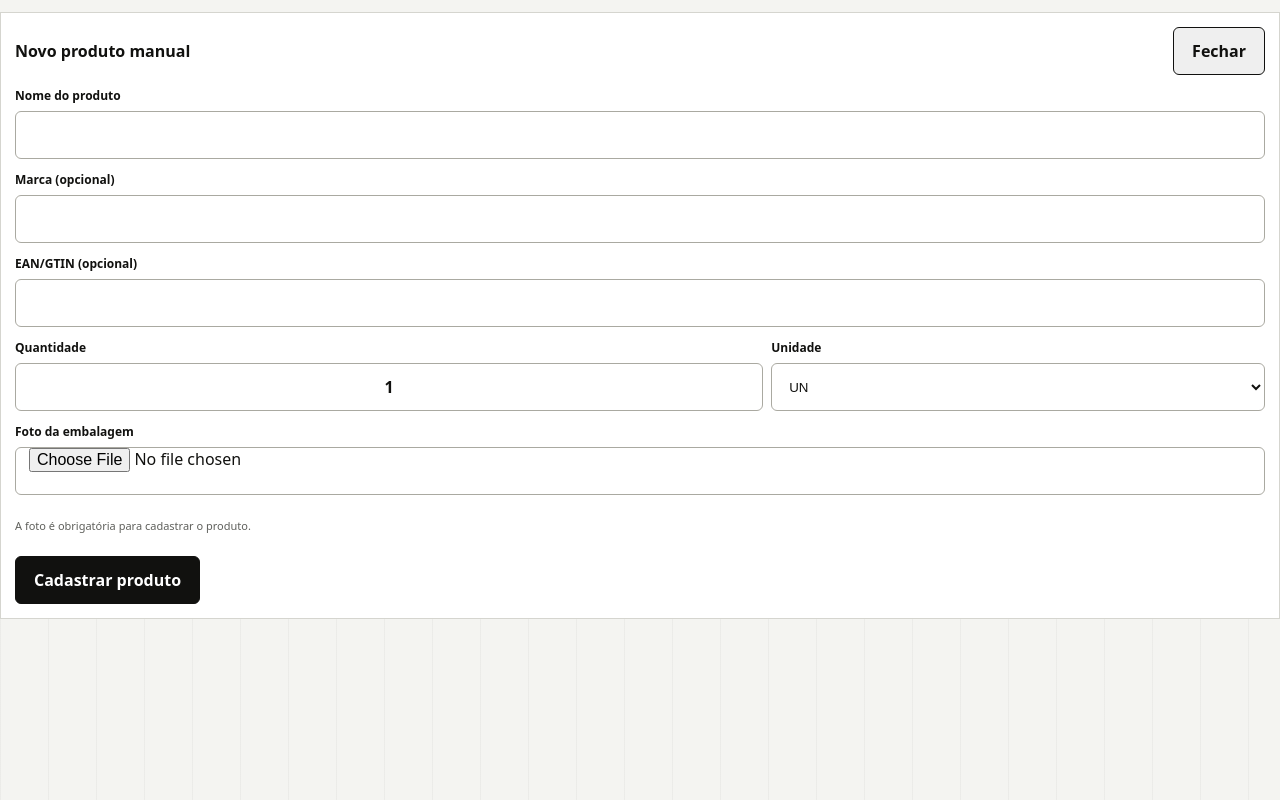
Test case: cadastro manual de produto › exige foto antes de cadastrar
Type "Café" into the field named "Nome do produto manual" at (640, 135), box [15,111,1265,159]
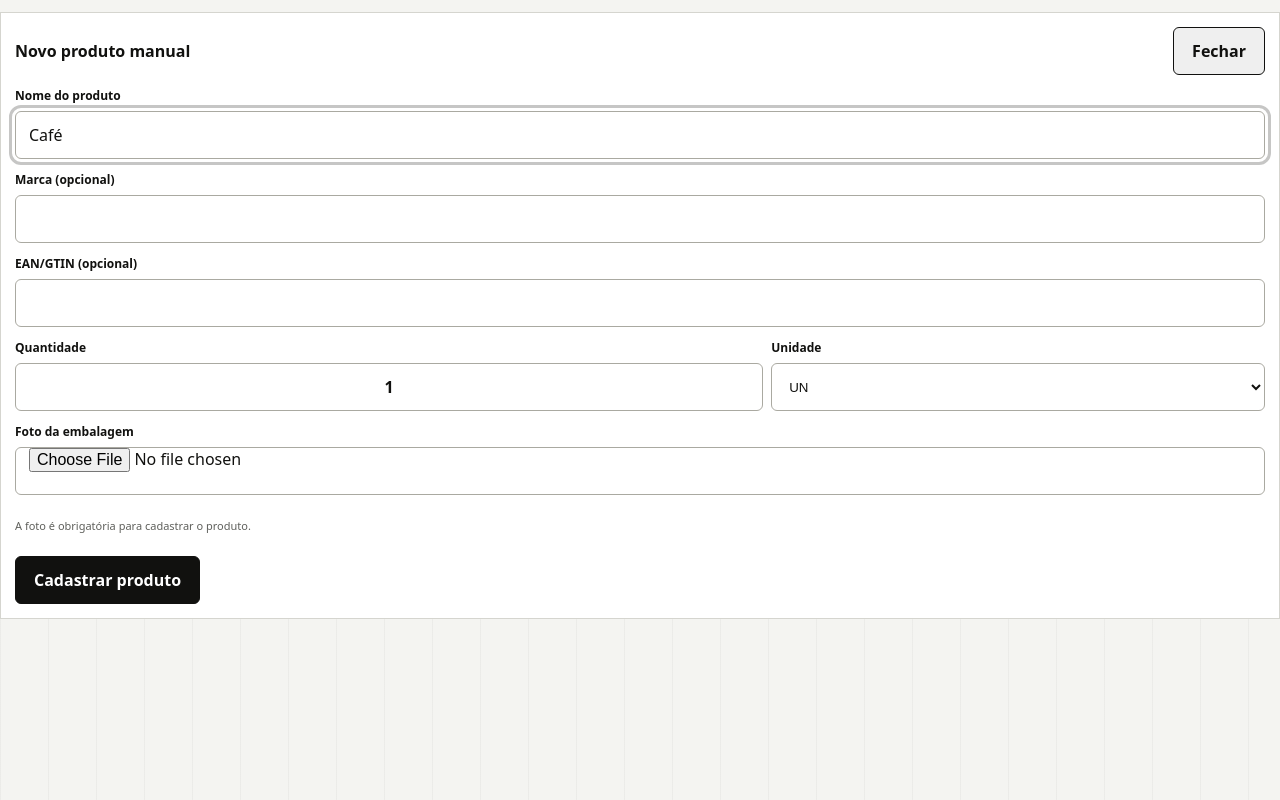
Click the button "Cadastrar produto" at (108, 580), box [15,556,200,604]
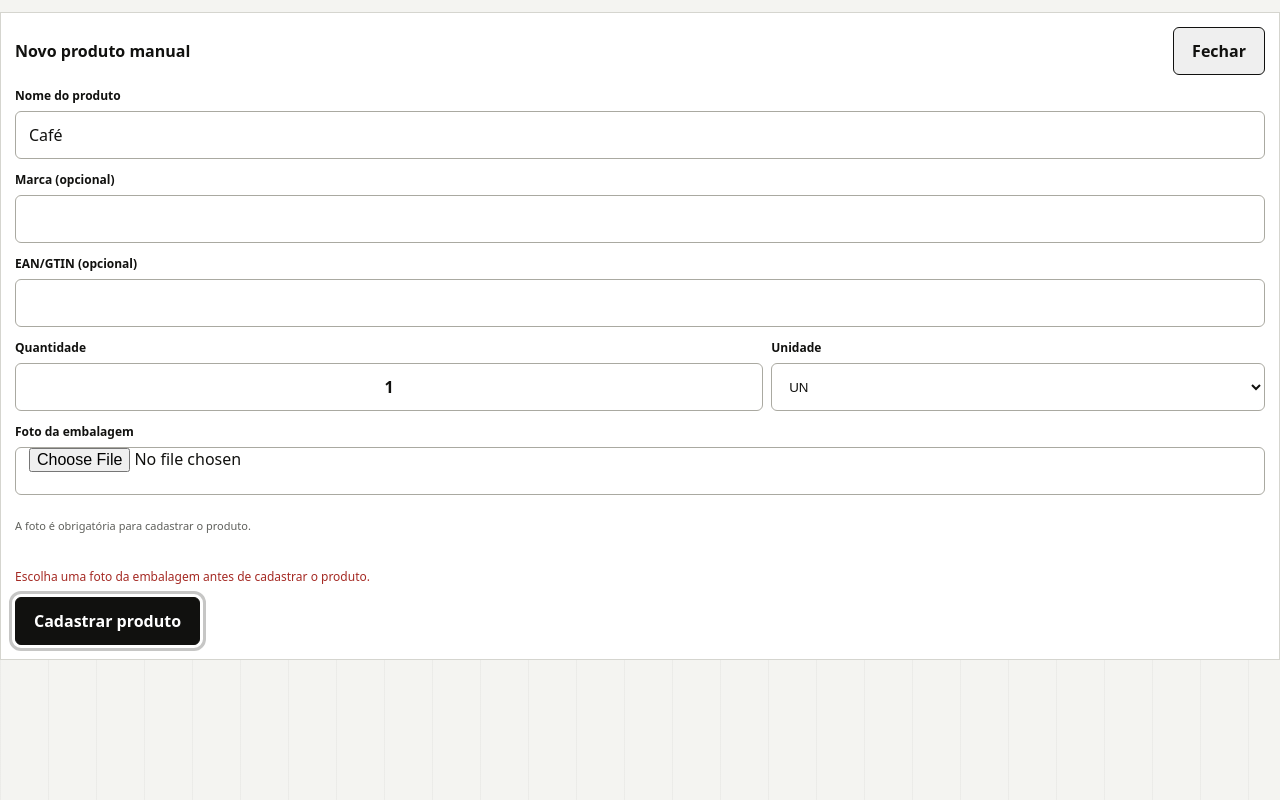
Result: the message shows "Escolha uma foto" at [15,568,370,585]
